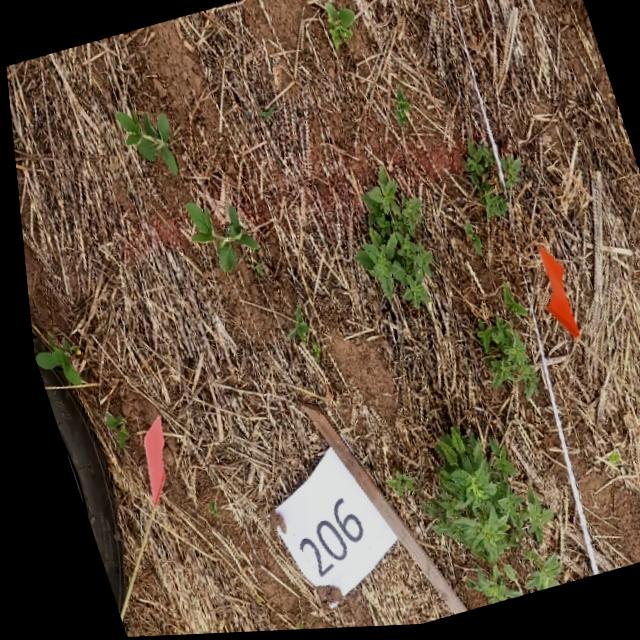caruru_weed: (414, 431, 547, 608), (351, 170, 426, 310), (470, 320, 529, 401), (470, 321, 529, 401), (460, 144, 503, 222), (461, 144, 502, 221), (496, 159, 517, 194), (498, 287, 520, 320), (459, 225, 476, 258)
soy_plant: (182, 204, 252, 271), (115, 112, 173, 174), (27, 336, 74, 384), (324, 4, 354, 49), (97, 414, 121, 448), (280, 306, 302, 341), (376, 474, 403, 499), (392, 89, 408, 129)
